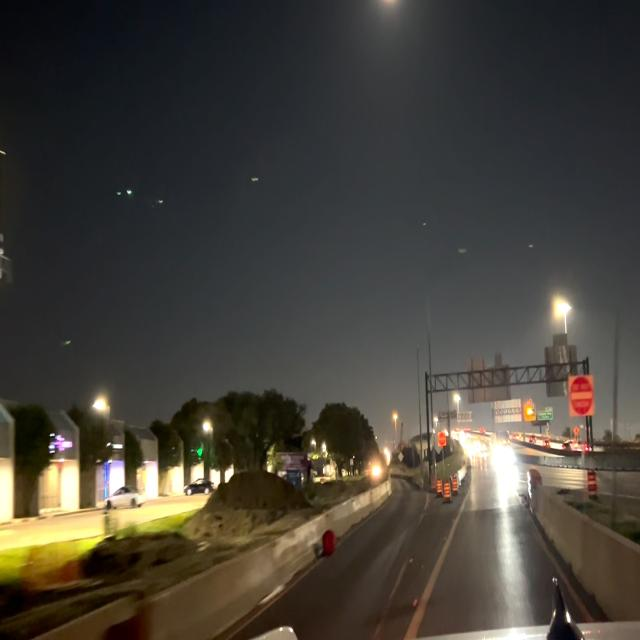back-of-sign: (466, 350, 511, 403), (494, 398, 522, 423), (456, 406, 474, 425)
